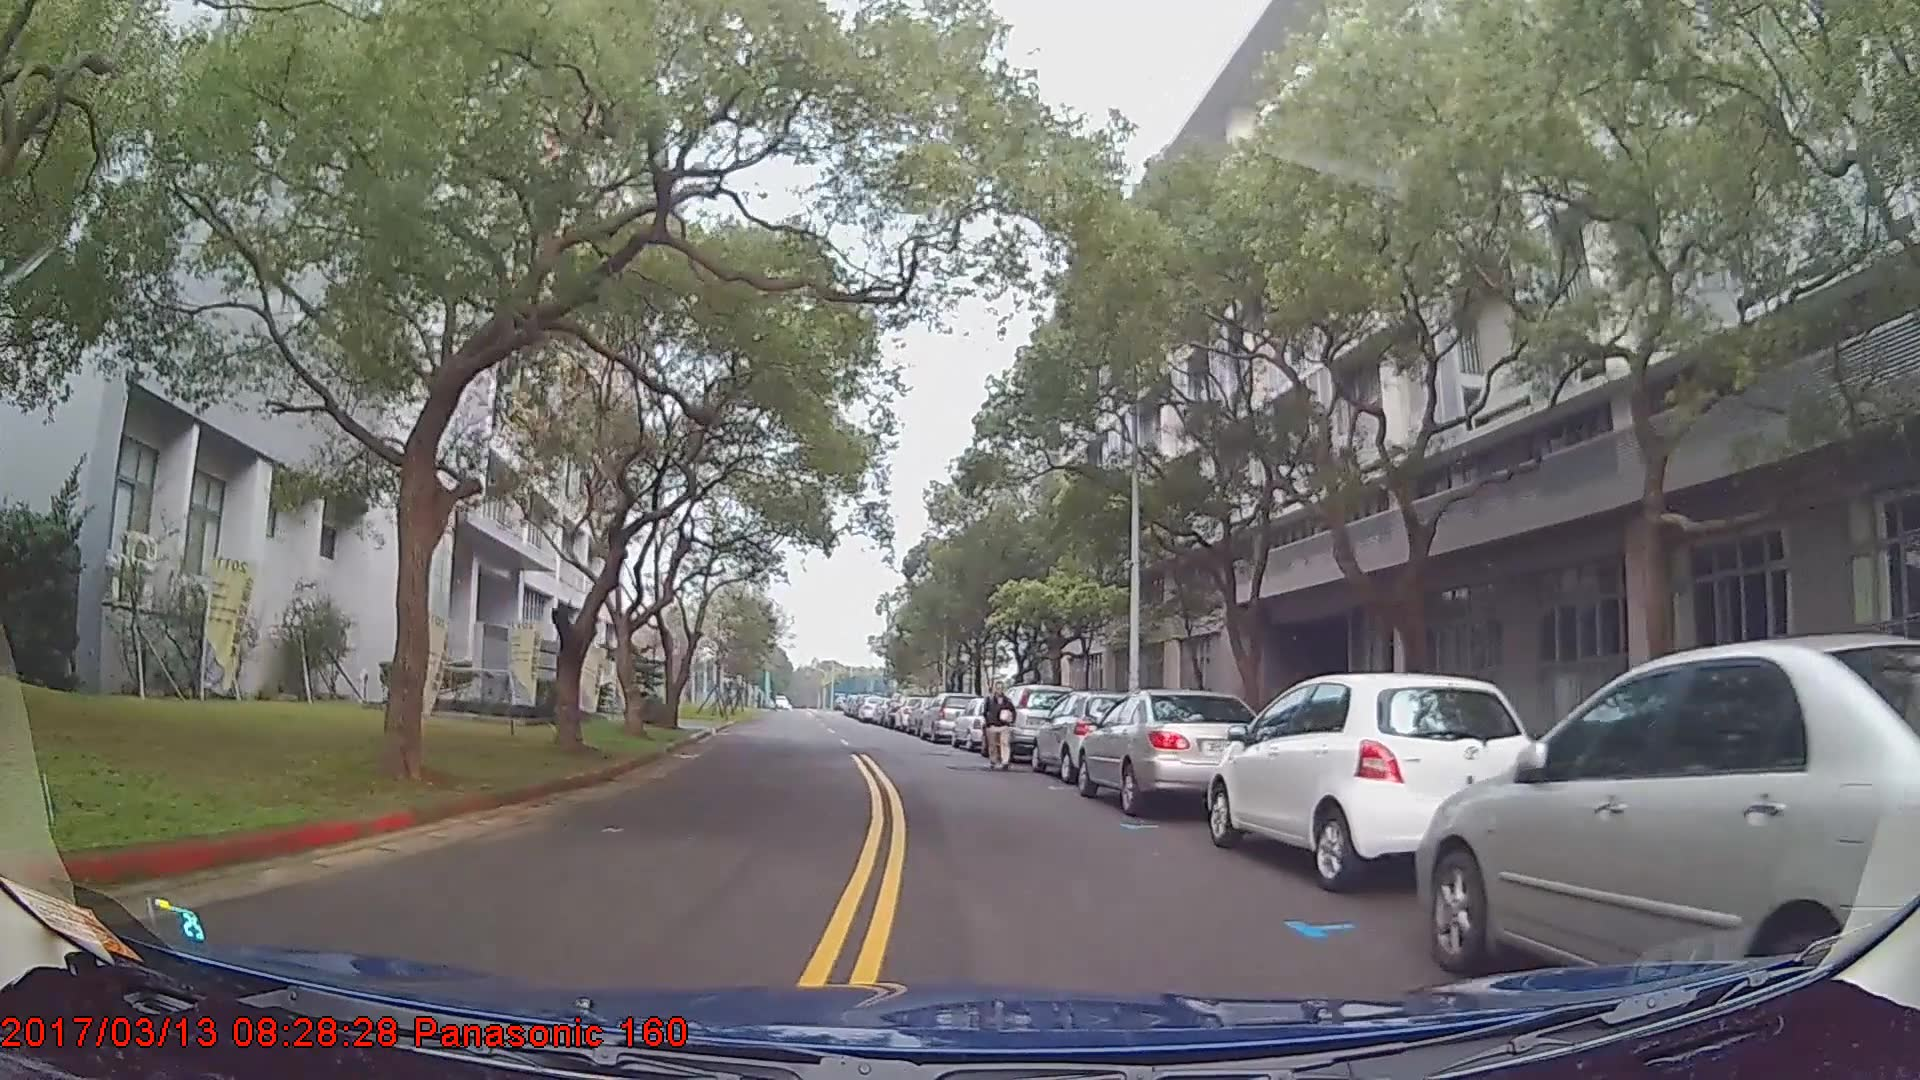pedestrian: (984, 676, 1019, 769)
vehicle: (1414, 626, 1920, 1008), (1207, 669, 1541, 891), (1074, 686, 1266, 814), (1030, 687, 1153, 782), (987, 682, 1076, 760), (949, 693, 1015, 751), (918, 691, 977, 743)
